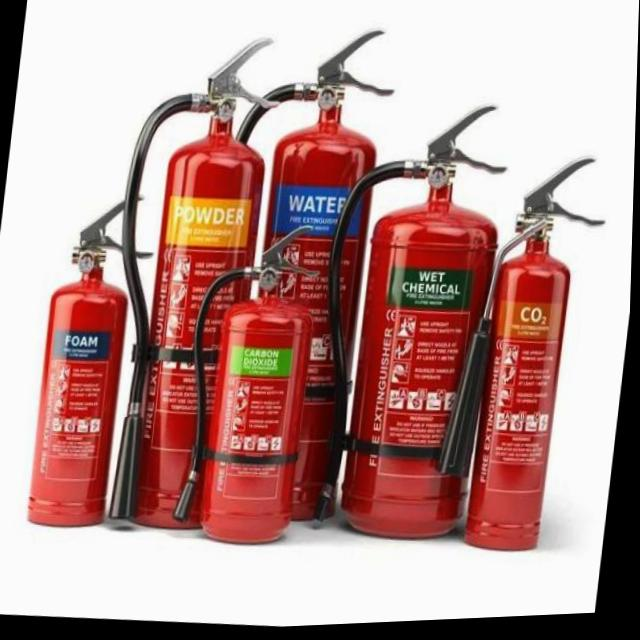FireExtinguisher: (179, 11, 405, 539), (84, 19, 292, 541), (297, 91, 517, 555), (425, 147, 616, 568), (168, 213, 332, 557), (17, 182, 166, 538)
